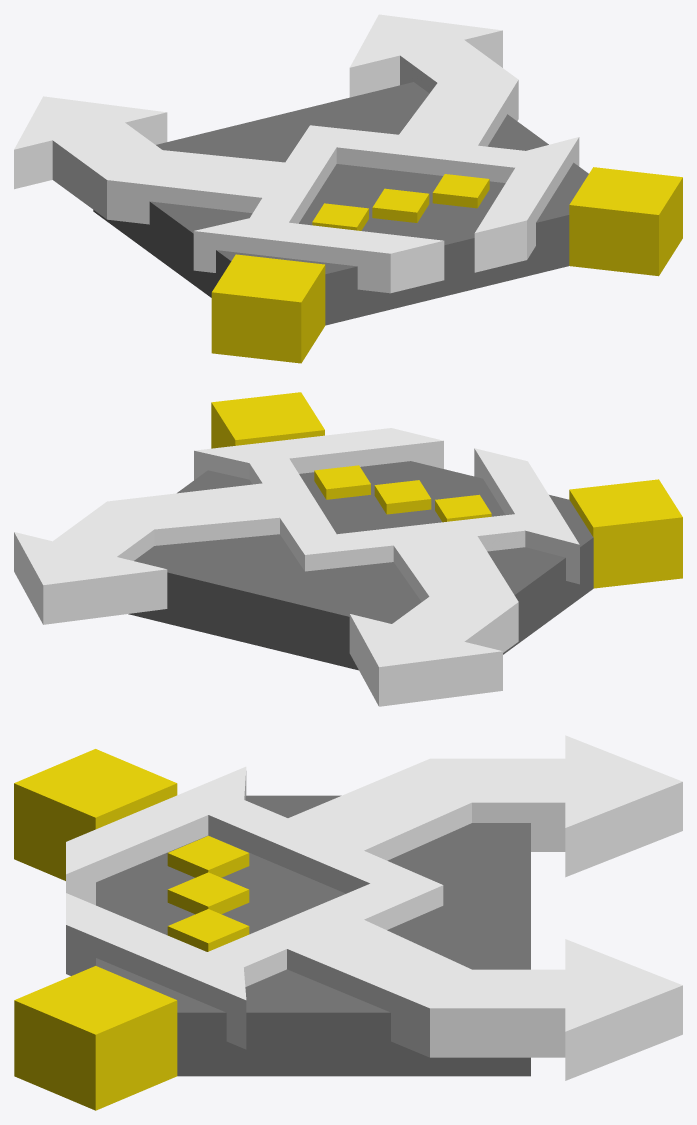
The model's file is EB_chamber_stage.glb.
3 views of the same model, one above another, from view 1: azimuth 30°, elevation 25°; view 2: azimuth 150°, elevation 25°; view 3: azimuth 270°, elevation 25° (orthographic). The views are drawn at different scales.
Visible parts, largest first — view 1: arrows_stage, grey_stage, stage_diamond1, stage_diamond2, screen_holder3, screen_holder2, screen_holder1; view 2: arrows_stage, grey_stage, stage_diamond1, stage_diamond2, screen_holder2, screen_holder3, screen_holder1; view 3: arrows_stage, grey_stage, stage_diamond2, stage_diamond1, screen_holder2, screen_holder1, screen_holder3.
Boxes of the visible parts, left/top/right/bottom form: arrows_stage: left=14, top=14, right=579, bottom=293; grey_stage: left=93, top=82, right=588, bottom=325; stage_diamond1: left=211, top=254, right=325, bottom=363; stage_diamond2: left=569, top=167, right=682, bottom=276; screen_holder3: left=432, top=174, right=489, bottom=208; screen_holder2: left=372, top=188, right=429, bottom=222; screen_holder1: left=312, top=203, right=368, bottom=230; arrows_stage: left=14, top=428, right=579, bottom=706; grey_stage: left=128, top=461, right=593, bottom=670; stage_diamond1: left=569, top=479, right=682, bottom=588; stage_diamond2: left=211, top=392, right=324, bottom=448; screen_holder2: left=374, top=480, right=431, bottom=514; screen_holder3: left=314, top=465, right=370, bottom=499; screen_holder1: left=435, top=494, right=491, bottom=522; arrows_stage: left=66, top=735, right=682, bottom=1080; grey_stage: left=96, top=795, right=530, bottom=1076; stage_diamond2: left=14, top=966, right=177, bottom=1110; stage_diamond1: left=14, top=749, right=177, bottom=880; screen_holder2: left=167, top=872, right=249, bottom=914; screen_holder1: left=167, top=836, right=249, bottom=877; screen_holder3: left=167, top=909, right=249, bottom=951.
Size of the model in its own units: 2.43 by 0.3223 by 2.32.
